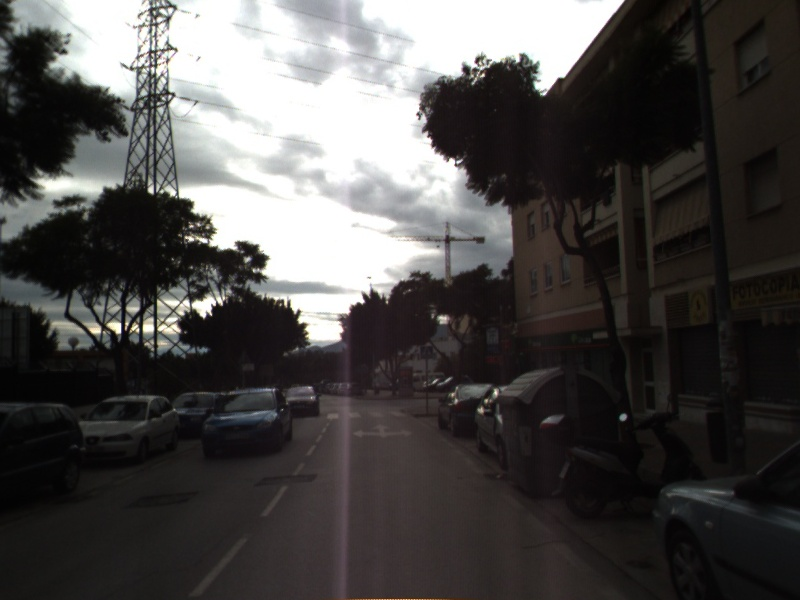STRAIGHT_LEFT_RIGHT: (351, 421, 415, 440)
